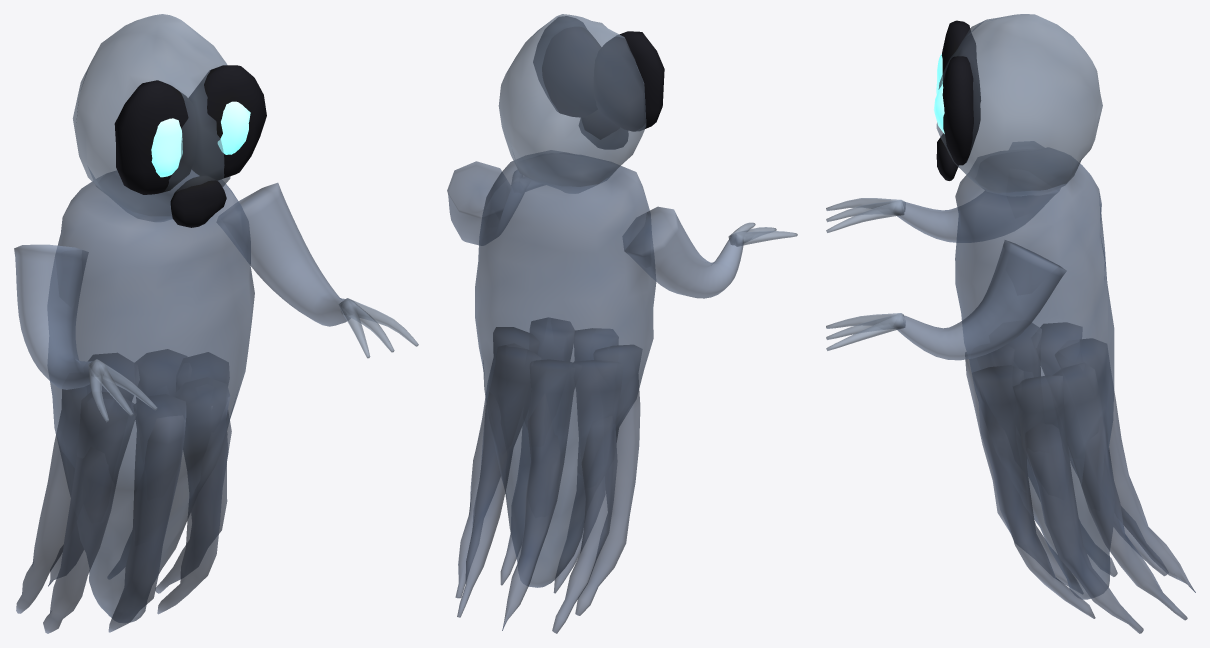
3 renders of one model, left to right at view 1: azimuth 30°, elevation 25°; view 2: azimuth 150°, elevation 25°; view 3: azimuth 270°, elevation 25°, orthographic. The views are drawn at different scales.
Visible parts, largest first — view 1: torso, armL, armR; view 2: torso, armR, armL; view 3: torso, armL, armR.
Boxes of the visible parts, left/top/right/bottom form: torso: left=16, top=14, right=266, bottom=633; armL: left=216, top=182, right=418, bottom=358; armR: left=14, top=244, right=157, bottom=422; torso: left=455, top=14, right=664, bottom=633; armR: left=622, top=206, right=797, bottom=298; armL: left=447, top=161, right=543, bottom=245; torso: left=933, top=14, right=1195, bottom=633; armL: left=826, top=240, right=1066, bottom=360; armR: left=826, top=141, right=1059, bottom=242.
Size of the model in its own units: 0.5758 by 1.11 by 0.6362.
